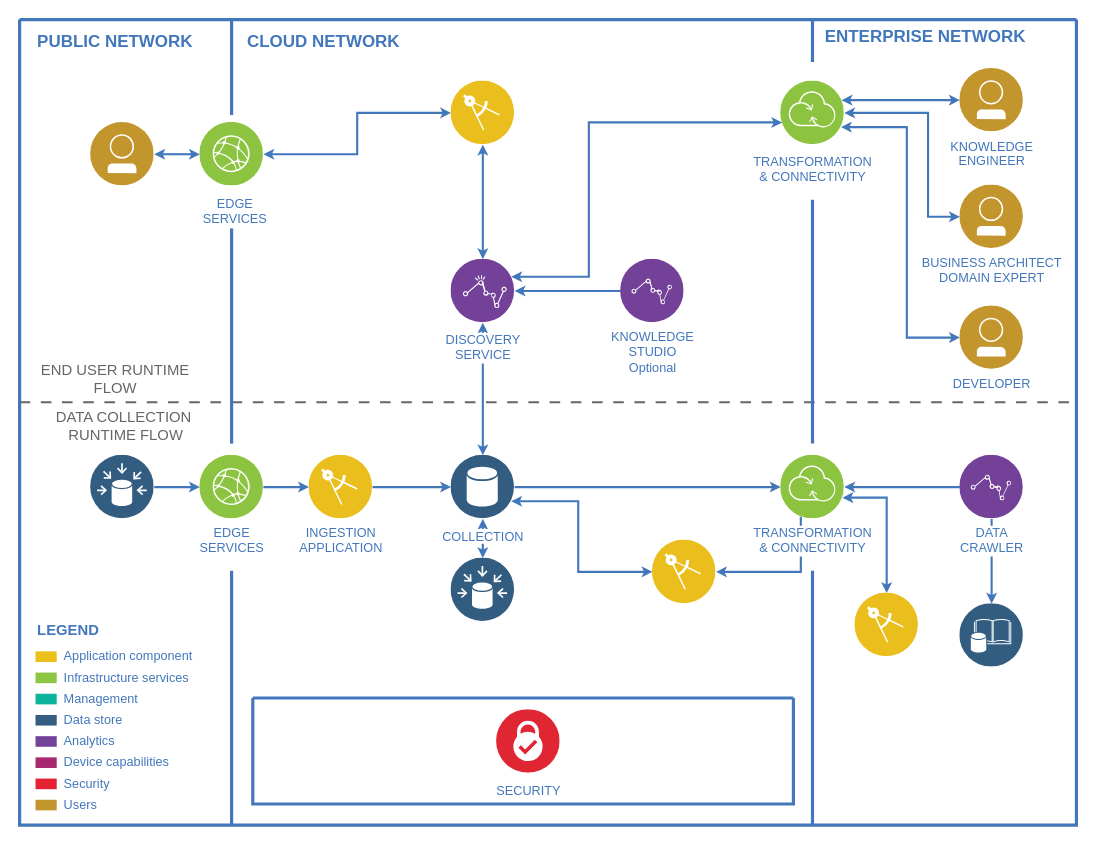
This 1099x845 diagram has some shape labels left out. The box of each missing label's shape, as (x1, y1, x2, y2) in pixels:
CURATED DATA SOURCES (Pre Enriched): (450, 558, 514, 621)
DISCOVERY APPLICATIONS: (450, 81, 514, 144)
ENTERPRISE DATA: (959, 603, 1023, 667)
INGESTION APPLICATION Client Side (Alternate to Crawler): (854, 593, 918, 656)
INGESTION APPLICATION Server Side (Alternate to Crawler): (652, 540, 716, 603)
PUBLIC DATA SOURCES: (90, 455, 154, 518)
USER: (90, 122, 154, 186)
